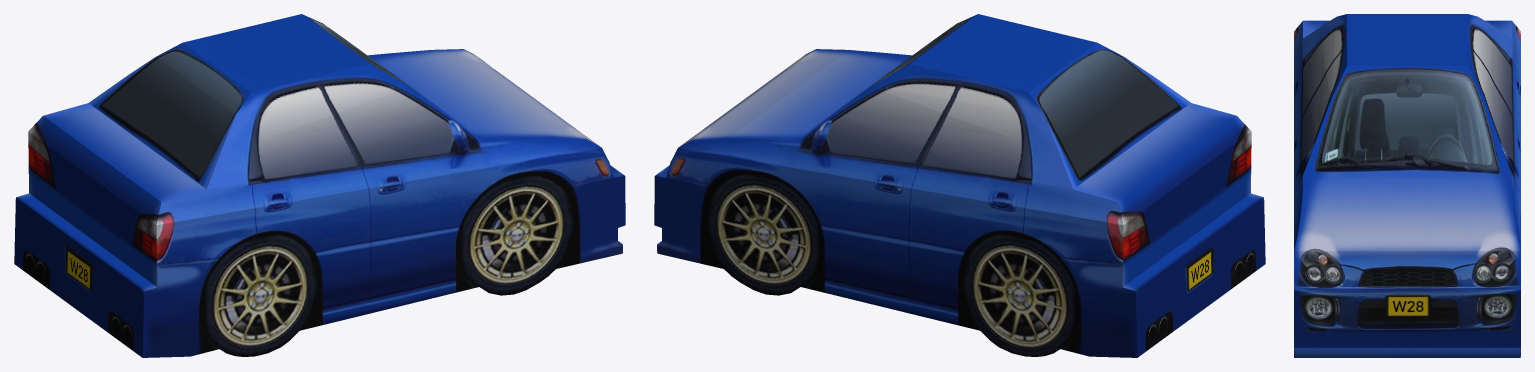
Rendered from car.glb.
3 renders of one model, left to right at view 1: azimuth 30°, elevation 25°; view 2: azimuth 150°, elevation 25°; view 3: azimuth 270°, elevation 25°, orthographic. The views are drawn at different scales.
Size of the model in its own units: 2.5 by 1.17 by 1.15.
1 material, 1 textured.
